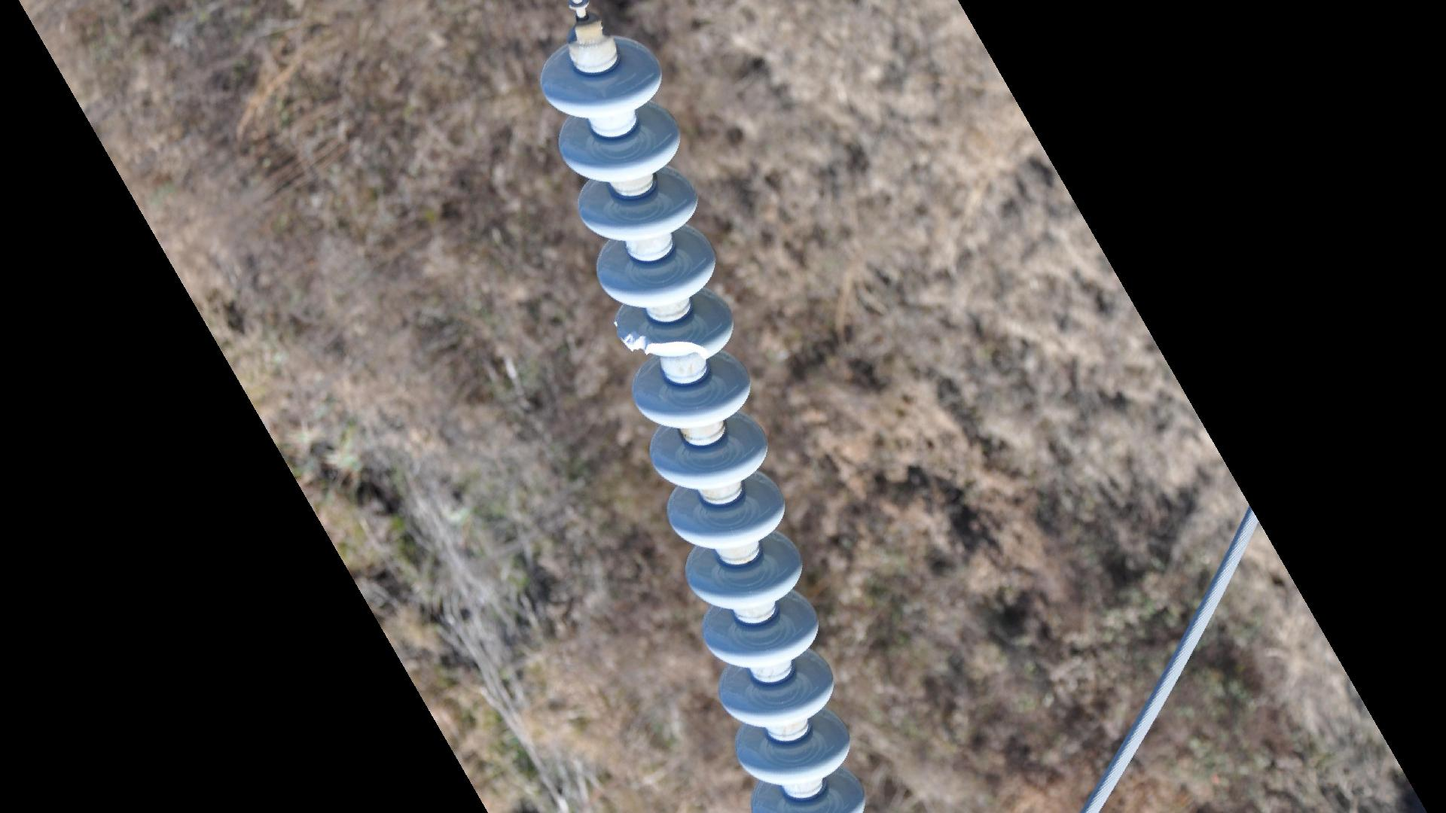insulator: (535, 28, 879, 813)
insulator_breakage: (606, 318, 713, 367)
